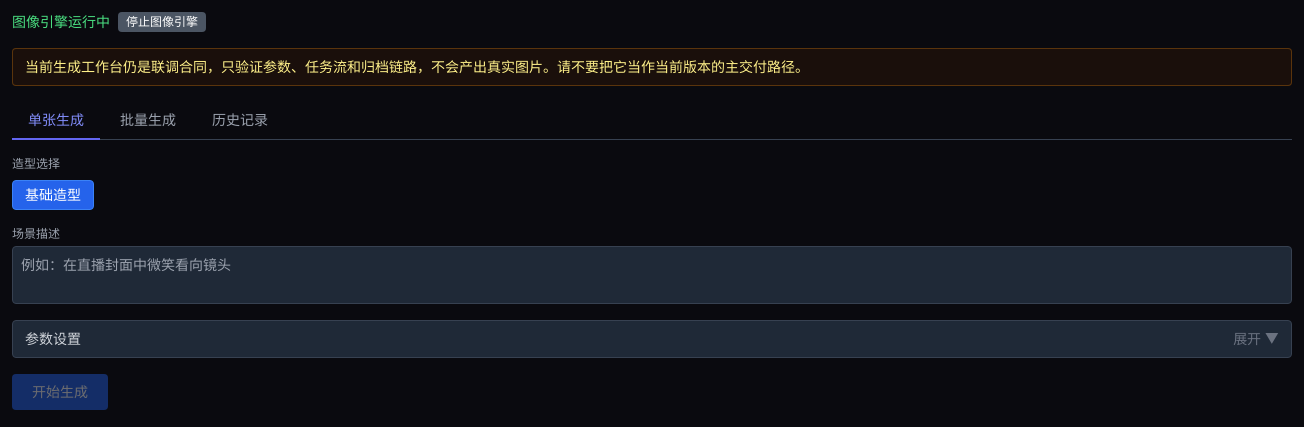
Scenario: switching to 历史记录 tab shows gallery loading state
Expected: the button "基础造型" is shown, [12,180,94,210]
Click the tab "历史记录" at (240,121), box [196,102,284,140]
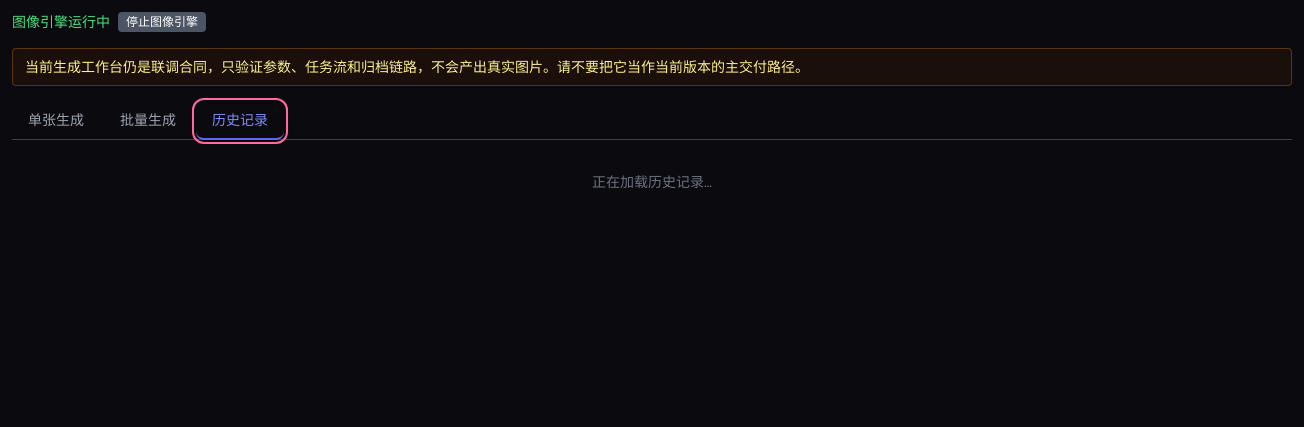
Expected: the text "正在加载历史记录…" is shown, [592,173,712,191]
